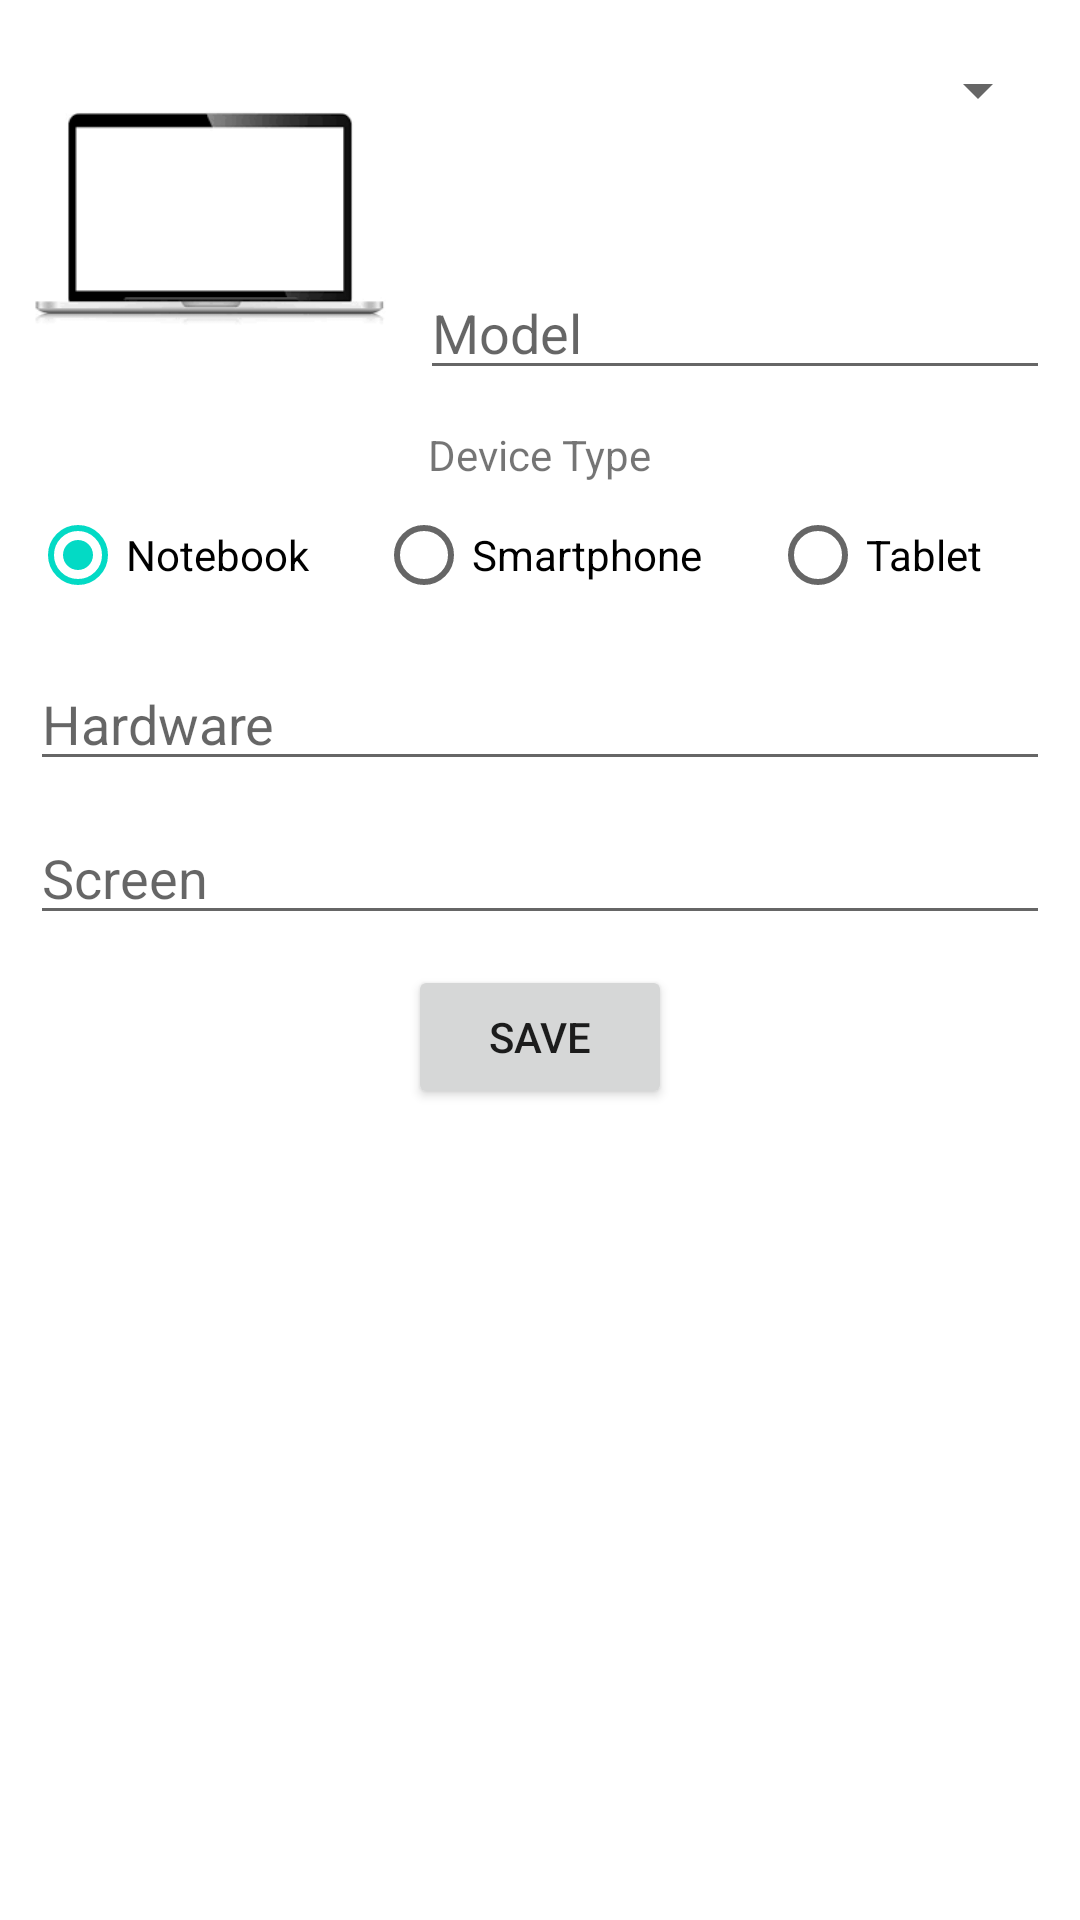

Point at icon controls on the screen. Image size 1080×1920, points as (x,y).
empty device: (209,216)
